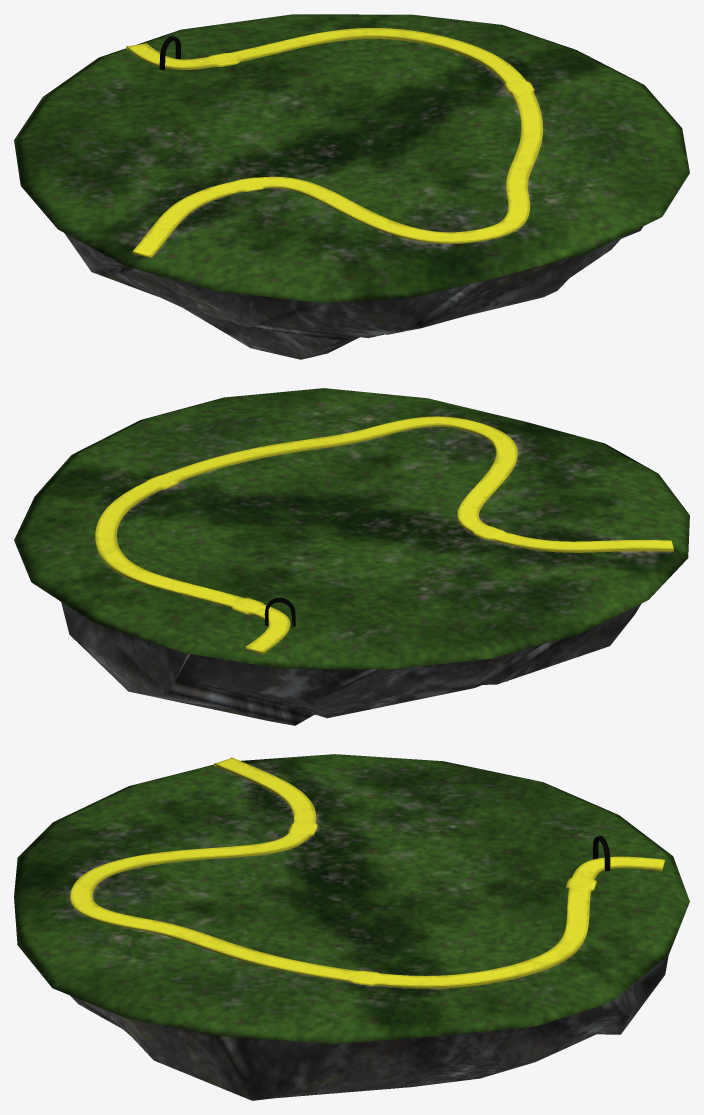
Rendered from island_2.glb.
3 renders of one model, top to bottom at view 1: azimuth 30°, elevation 25°; view 2: azimuth 150°, elevation 25°; view 3: azimuth 270°, elevation 25°, orthographic. The views are drawn at different scales.
Parts seen in each view (by area): view 1: Island_2.001; view 2: Island_2.001; view 3: Island_2.001.
Boxes of the visible parts, left/top/right/bottom form: Island_2.001: left=14, top=14, right=689, bottom=359; Island_2.001: left=14, top=388, right=689, bottom=725; Island_2.001: left=14, top=754, right=689, bottom=1100.
Bounding box in the file's own units: 54.49 × 17.57 × 53.17.
Materials: 2 (2 with a texture image).
